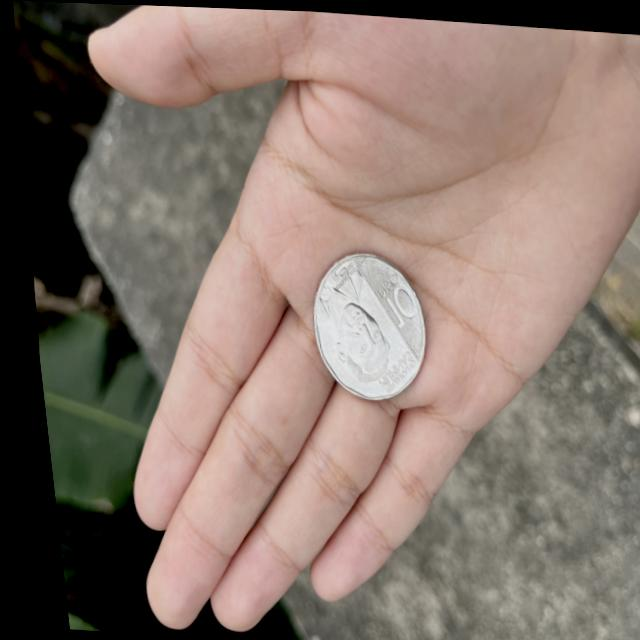10_New_Front: (357, 261, 418, 331)
